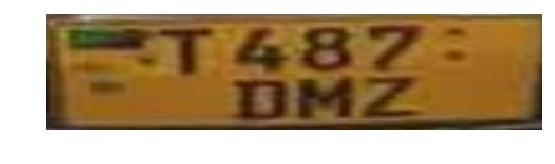T: (155, 22, 222, 79)
